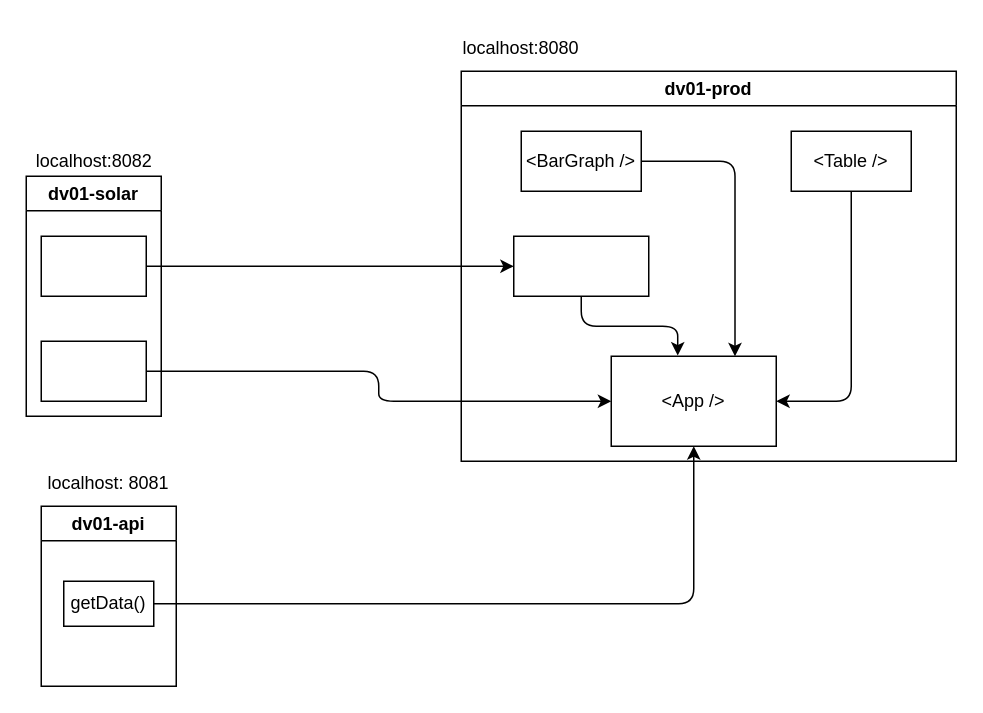
Some shapes in this 983 by 713 pixel diagram are drawn without their labels. The centre of each missing label's shape, as x and y in pixels:
<Button />: (93,370)
<FilterMenu />: (580,265)
<Select />: (93,265)
